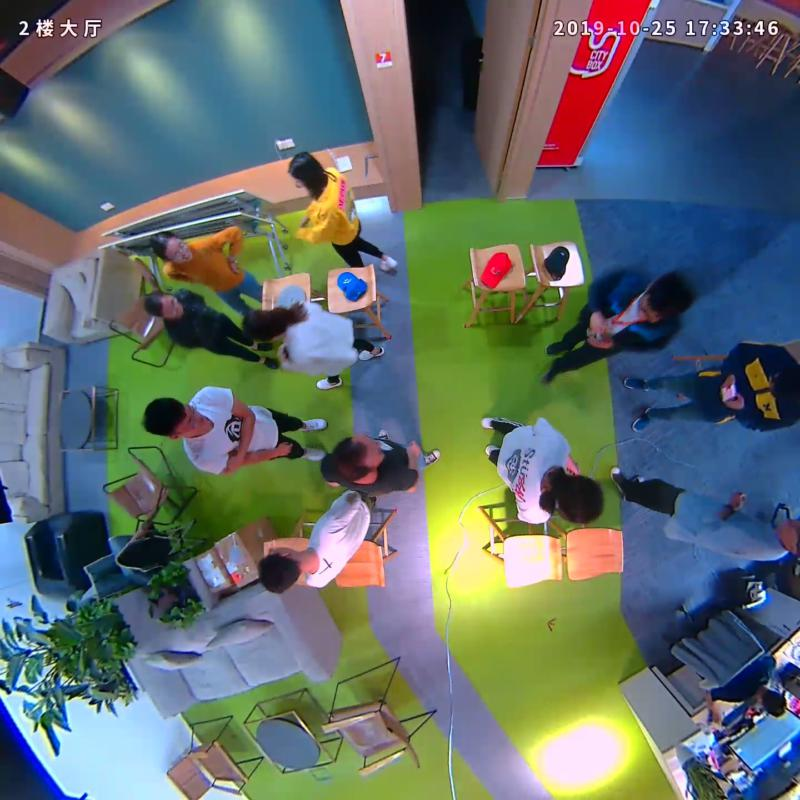head: (142, 396, 207, 439), (636, 275, 692, 323), (552, 472, 604, 523), (331, 433, 384, 479), (259, 546, 302, 593), (149, 231, 193, 262), (288, 152, 322, 189), (142, 291, 184, 320), (242, 308, 278, 341)
